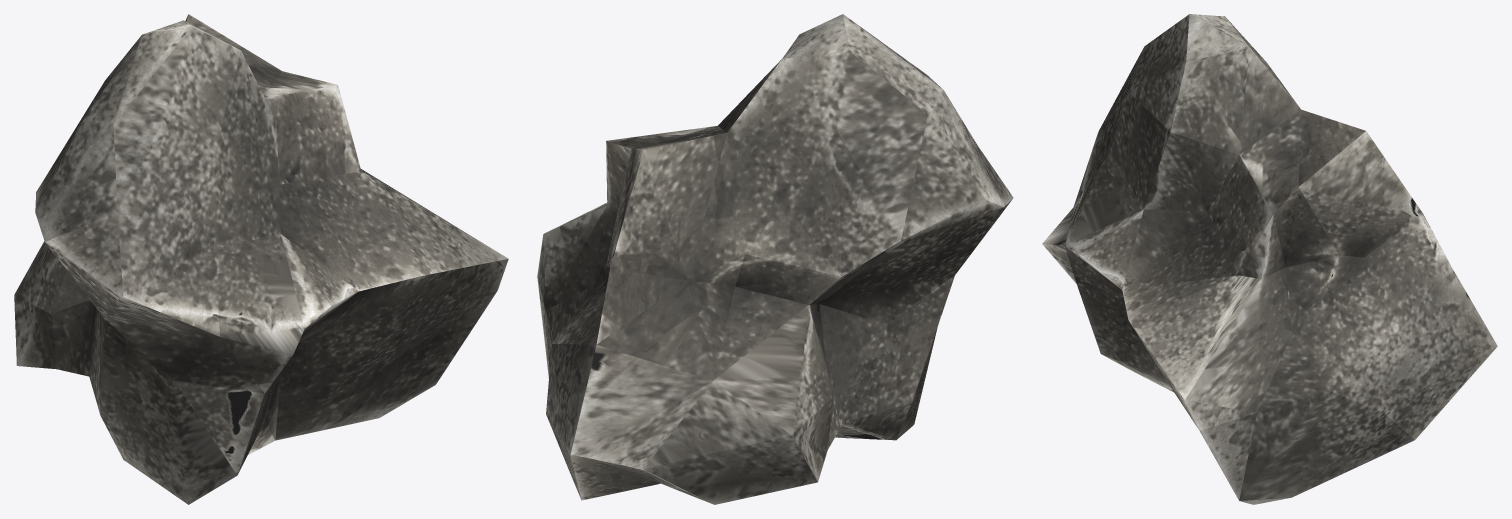
The model's file is rock2_LOD2.fbx.
The picture shows the model from 3 angles, left to right: view 1: azimuth 30°, elevation 25°; view 2: azimuth 150°, elevation 25°; view 3: azimuth 270°, elevation 25°; orthographic projection. The views are drawn at different scales.
Visible parts, largest first — view 1: rock2_LOD2; view 2: rock2_LOD2; view 3: rock2_LOD2.
Part boxes in pixels (left/top/right/bottom): rock2_LOD2: left=14, top=14, right=508, bottom=504; rock2_LOD2: left=537, top=14, right=1013, bottom=504; rock2_LOD2: left=1042, top=14, right=1497, bottom=504.
Size of the model in its own units: 525 by 505 by 524.
Materials: 1 (1 with a texture image).
